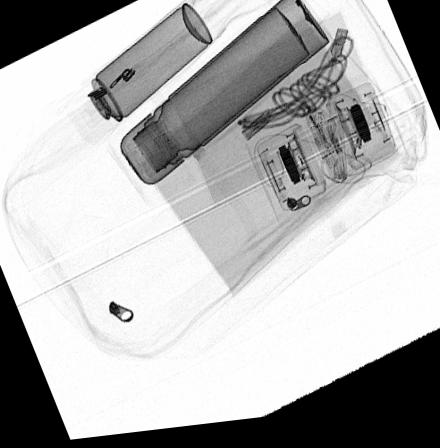Sprayer: (63, 7, 213, 149)
